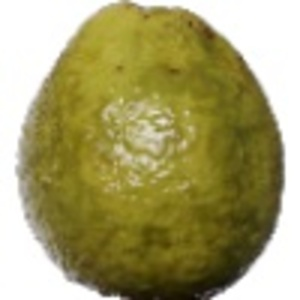goiaba: (11, 2, 291, 294)
